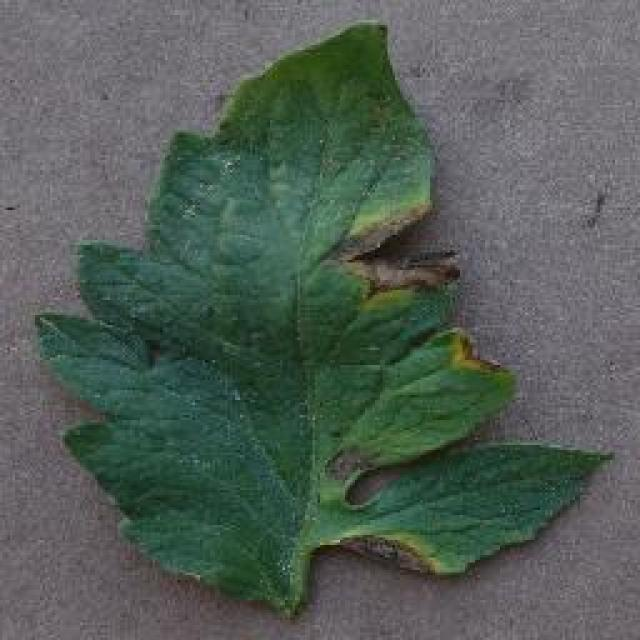leaf blight: (33, 23, 610, 610)
